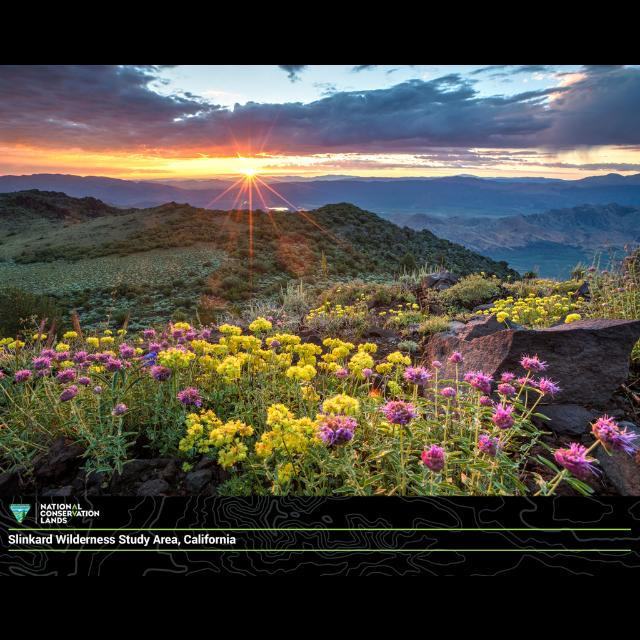Flower: (1, 242, 640, 470), (580, 418, 634, 472), (556, 440, 598, 474), (612, 426, 640, 456), (272, 462, 300, 481)
